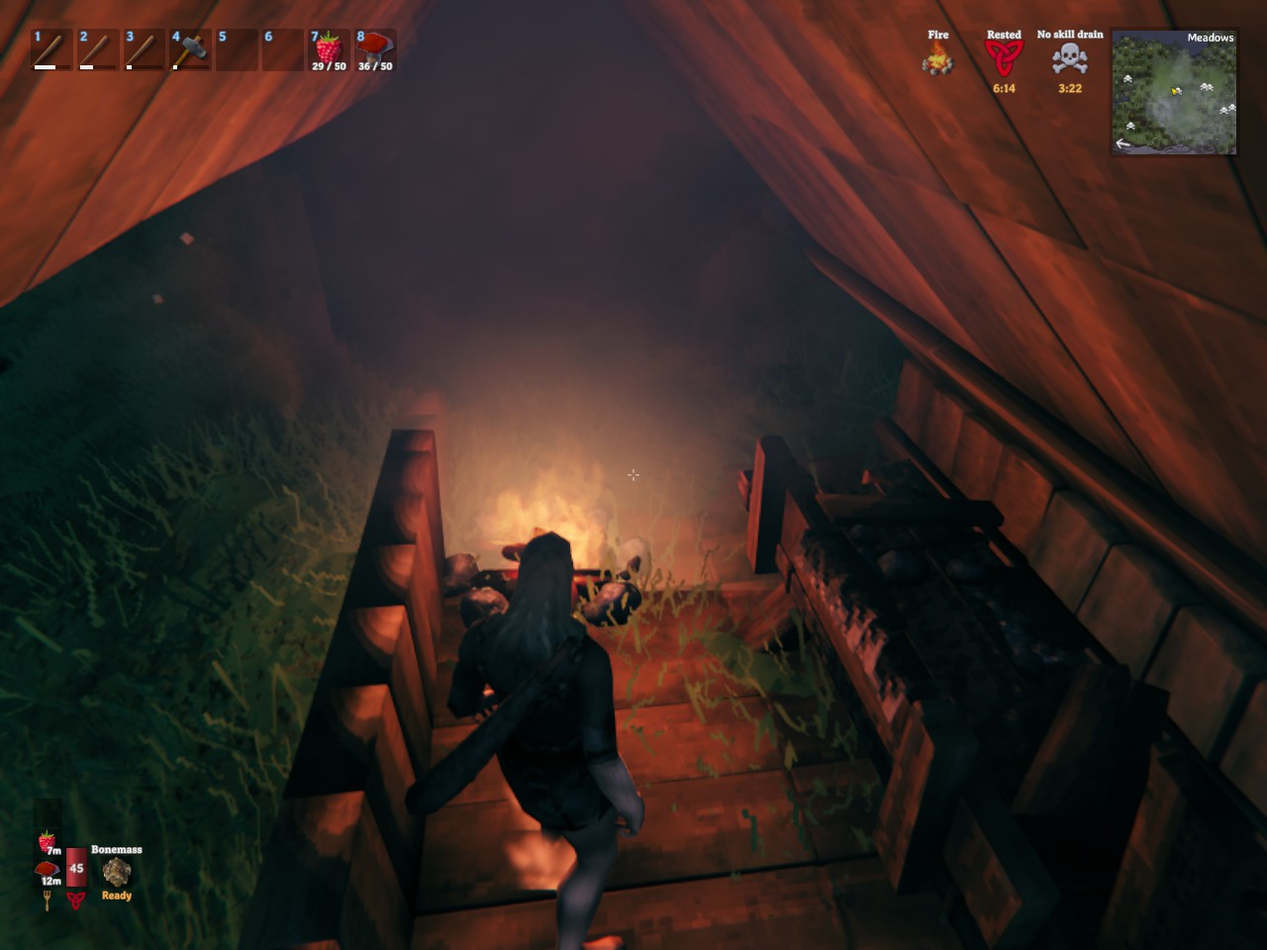Status Indicator: (909, 21, 1114, 108)
